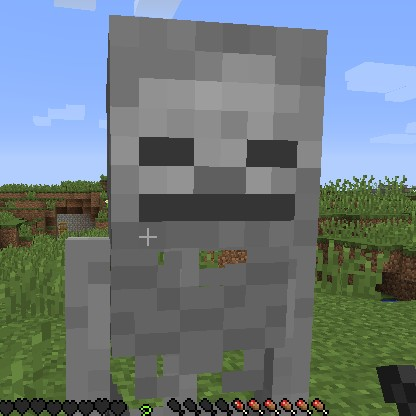skeleton: (65, 9, 320, 389)
